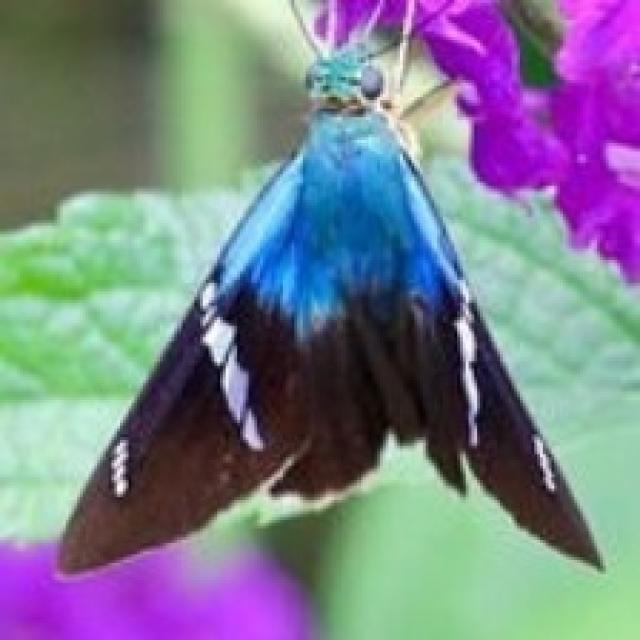butterfly: (51, 0, 606, 580)
